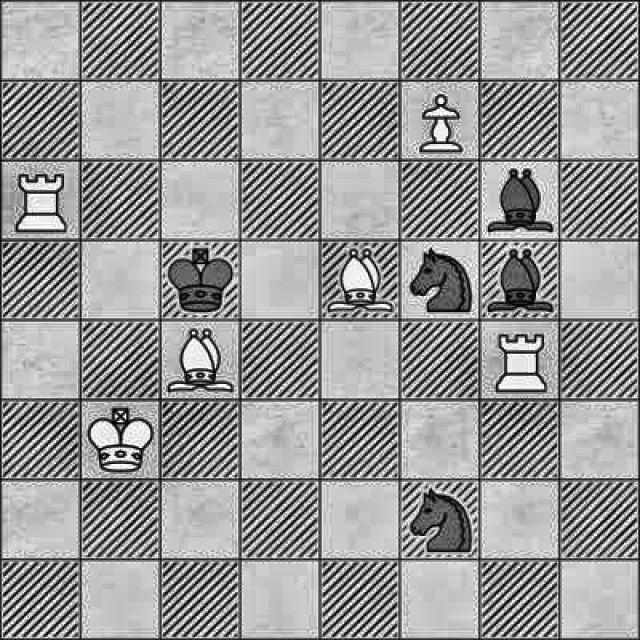Black Knight: (402, 238, 475, 320), (399, 482, 475, 559)
black bishop: (480, 244, 559, 318), (486, 162, 555, 238)
black king: (167, 240, 236, 320)
white bishop: (324, 243, 395, 321), (162, 326, 237, 394)
white king: (84, 404, 156, 476)
white pawn: (410, 87, 476, 158)
white rook: (0, 168, 76, 236), (490, 322, 554, 397)
